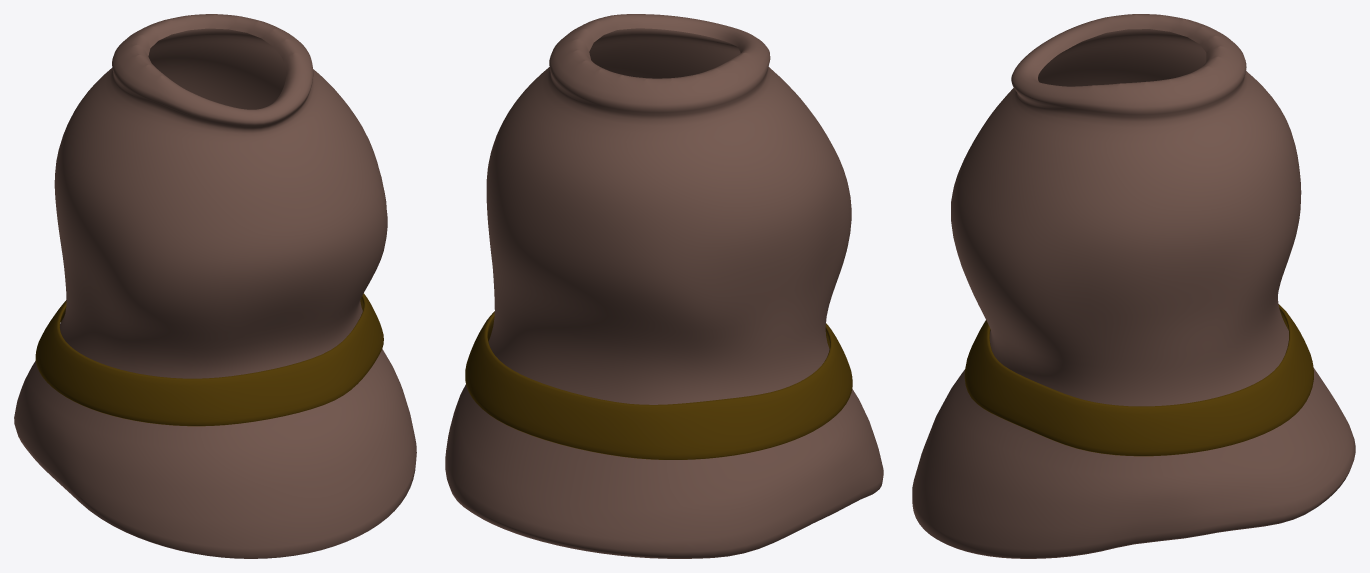
File: Mother_Sweater.fbx
3 renders of one model, left to right at view 1: azimuth 30°, elevation 25°; view 2: azimuth 150°, elevation 25°; view 3: azimuth 270°, elevation 25°, orthographic. The views are drawn at different scales.
Parts seen in each view (by area): view 1: Mum_Sweater_Smooth, Mum_Belt_Smooth; view 2: Mum_Sweater_Smooth, Mum_Belt_Smooth; view 3: Mum_Sweater_Smooth, Mum_Belt_Smooth.
Part boxes in pixels (<box>): Mum_Sweater_Smooth: <box>14,14,416,558</box>; Mum_Belt_Smooth: <box>35,293,383,426</box>; Mum_Sweater_Smooth: <box>445,14,883,558</box>; Mum_Belt_Smooth: <box>465,311,852,459</box>; Mum_Sweater_Smooth: <box>912,14,1355,558</box>; Mum_Belt_Smooth: <box>964,304,1313,456</box>.
Bounding box in the file's own units: 1.9 × 2.32 × 2.04.
